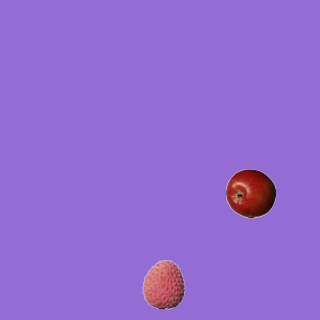Apple Braeburn: (225, 168, 275, 218)
Lychee: (138, 259, 188, 309)
